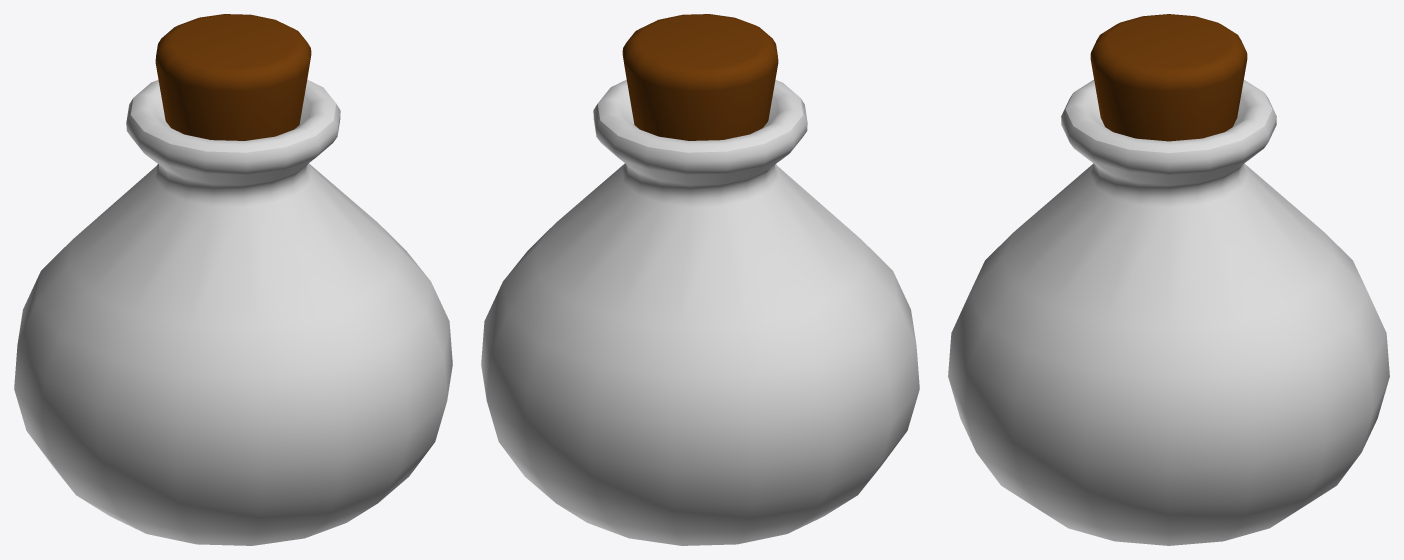
The model's file is Potion Containers 3.fbx.
3 renders of one model, left to right at view 1: azimuth 30°, elevation 25°; view 2: azimuth 150°, elevation 25°; view 3: azimuth 270°, elevation 25°, orthographic.
Visible parts, largest first — view 1: test_tube3; view 2: test_tube3; view 3: test_tube3.
Part boxes in pixels (x1,y1,x2,y2): test_tube3: [14, 14, 452, 545]; test_tube3: [481, 14, 919, 545]; test_tube3: [948, 14, 1389, 545].
Bounding box in the file's own units: 2.1 × 2.46 × 2.1.
